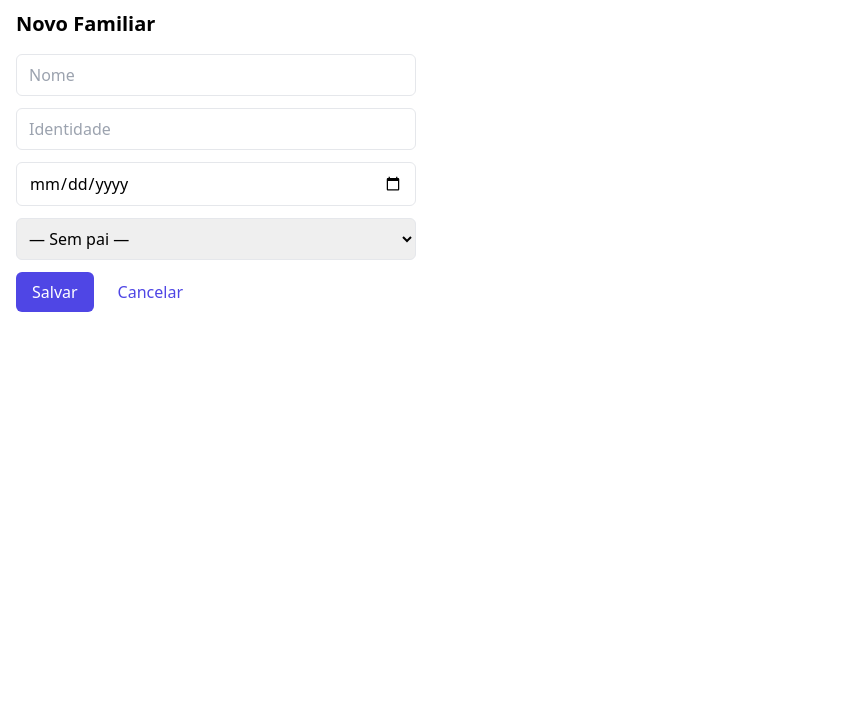
Test case: FamiliarForm › deve mostrar erro quando tentar submeter formulário sem nome
Click the button "Salvar" at (55, 292), box top-left (16, 272), bottom-right (94, 312)
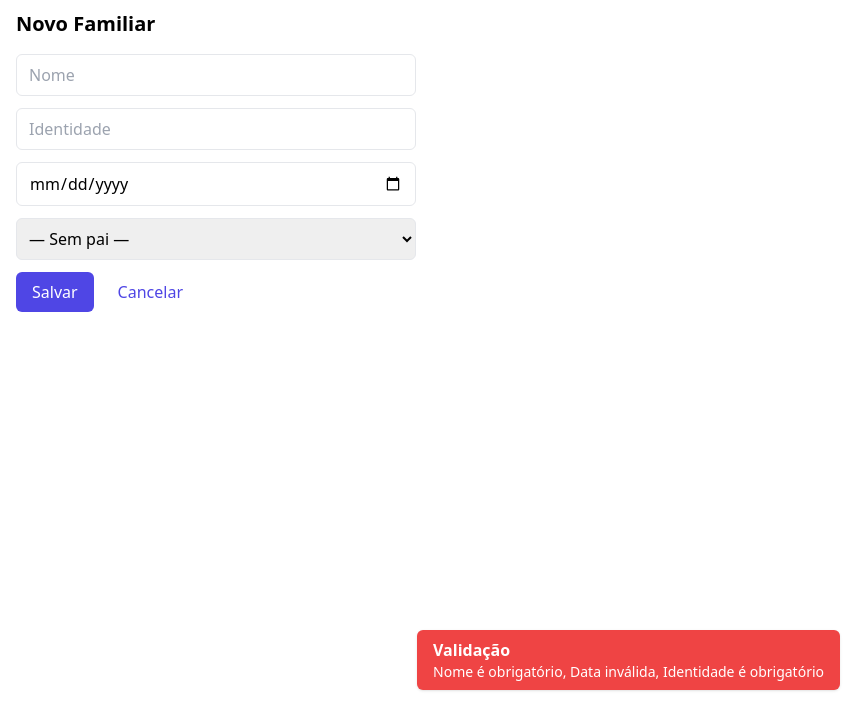
Expected: the text "Validação" is shown, top-left (433, 639), bottom-right (510, 661)
Expected: the text "Nome é obrigatório, Data inválida, Identidade é obrigatório" is shown, top-left (433, 662), bottom-right (824, 682)
